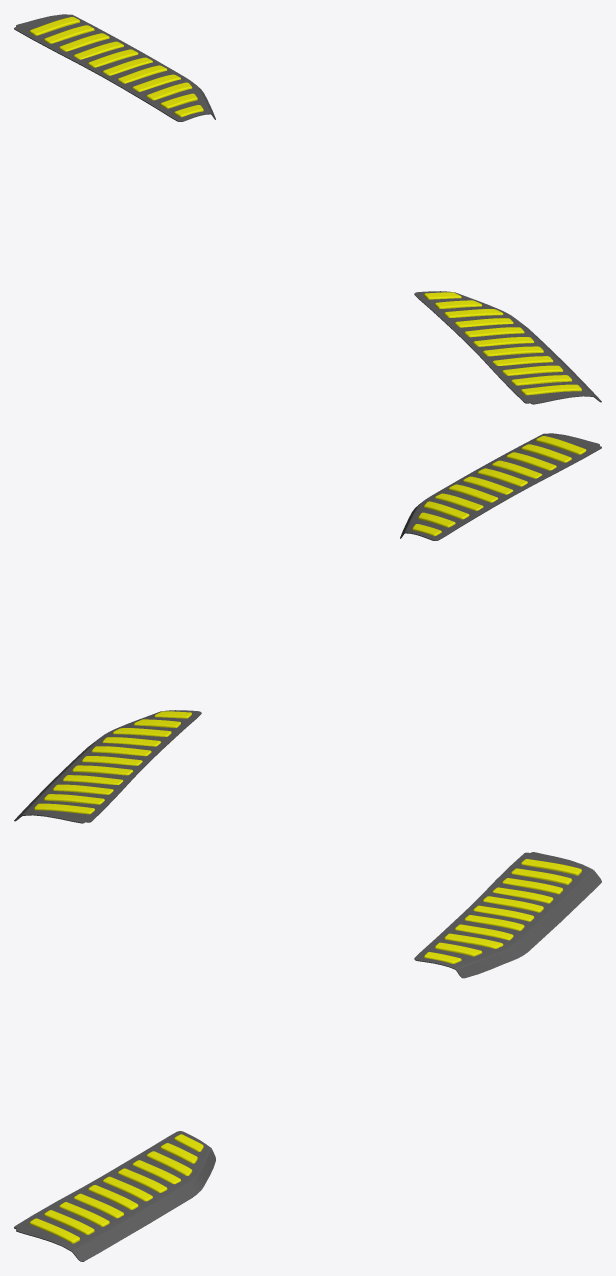
File: NISSAN_MAGNITE_EX_ACC_MT_CVT_XVP_XV_XL_XE_TGG_MESH.glb
3 renders of one model, top to bottom at view 1: azimuth 30°, elevation 25°; view 2: azimuth 150°, elevation 25°; view 3: azimuth 330°, elevation 25°, orthographic.
Visible parts, largest first — view 1: NISSAN_MAGNITE_EX_ACC_MT_CVT_XVP_XV_XL_XE_TGG_MESH; view 2: NISSAN_MAGNITE_EX_ACC_MT_CVT_XVP_XV_XL_XE_TGG_MESH; view 3: NISSAN_MAGNITE_EX_ACC_MT_CVT_XVP_XV_XL_XE_TGG_MESH.
Part boxes in pixels (x1,y1,x2,y2): NISSAN_MAGNITE_EX_ACC_MT_CVT_XVP_XV_XL_XE_TGG_MESH: (14, 14, 601, 404); NISSAN_MAGNITE_EX_ACC_MT_CVT_XVP_XV_XL_XE_TGG_MESH: (14, 433, 601, 823); NISSAN_MAGNITE_EX_ACC_MT_CVT_XVP_XV_XL_XE_TGG_MESH: (14, 852, 601, 1261).
Bounding box in the file's own units: 0.1183 × 0.0222 × 1.17.
